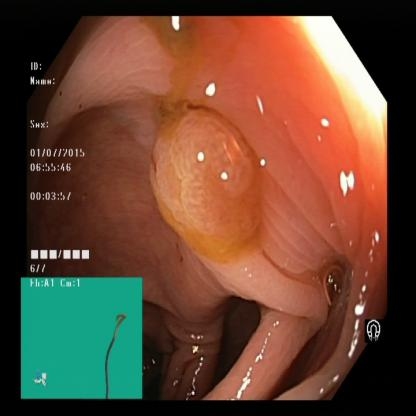Labels: (21, 276, 143, 398), (25, 60, 93, 278), (359, 308, 390, 356)
Polyps: (156, 113, 257, 259)
